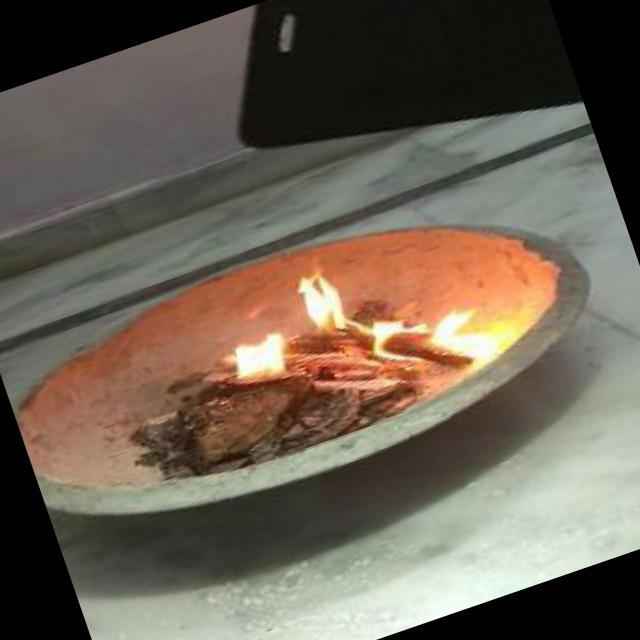fire: (207, 219, 483, 437)
